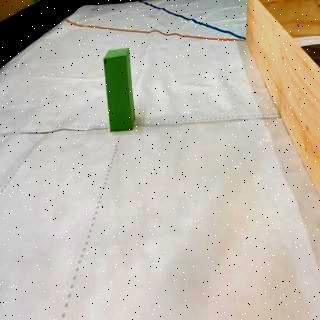greenbox: (104, 49, 134, 131)
